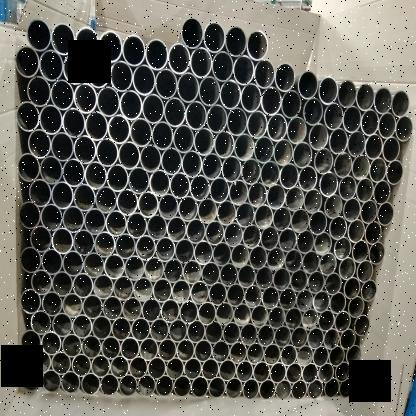pipe: (14, 44, 40, 78), (50, 22, 76, 54), (26, 18, 51, 50), (74, 26, 99, 58), (98, 29, 122, 62), (39, 48, 63, 81), (62, 52, 86, 85), (132, 63, 156, 96), (27, 74, 51, 107), (144, 38, 168, 70), (86, 56, 110, 88), (109, 60, 133, 92), (154, 67, 178, 99), (50, 78, 74, 110), (224, 24, 247, 57), (122, 35, 146, 66), (74, 82, 98, 113), (16, 101, 40, 132), (62, 107, 86, 138), (202, 20, 225, 52), (168, 42, 191, 74), (189, 46, 212, 78), (142, 92, 165, 124), (50, 131, 74, 161), (72, 134, 96, 164), (180, 18, 204, 48), (176, 72, 200, 102), (96, 86, 120, 116), (38, 104, 62, 134), (84, 110, 108, 140), (211, 50, 234, 81), (119, 89, 142, 120), (206, 102, 228, 134), (50, 180, 74, 209), (28, 128, 51, 158), (107, 114, 130, 144), (246, 29, 268, 60), (198, 75, 220, 106), (72, 183, 96, 211), (17, 153, 40, 182), (84, 160, 107, 189), (29, 178, 52, 207), (118, 140, 140, 170), (274, 62, 296, 92), (260, 86, 282, 116), (164, 96, 186, 126), (184, 100, 206, 130), (130, 117, 152, 147), (233, 54, 254, 85), (95, 138, 118, 166), (62, 158, 85, 186), (127, 166, 150, 194), (40, 202, 63, 230), (51, 226, 74, 254), (220, 78, 240, 110), (151, 121, 173, 150), (172, 124, 194, 153), (40, 155, 62, 184), (240, 82, 261, 112), (29, 225, 52, 252), (254, 57, 274, 88), (140, 144, 162, 172), (160, 147, 182, 175), (106, 164, 128, 192), (296, 70, 318, 98), (302, 97, 324, 125), (193, 127, 214, 156), (253, 135, 274, 164), (317, 75, 338, 104), (280, 89, 301, 118), (226, 107, 247, 136), (286, 116, 307, 145), (337, 78, 357, 108), (95, 186, 117, 213), (116, 188, 138, 215), (62, 205, 84, 232), (84, 207, 106, 234), (105, 209, 127, 236), (126, 211, 148, 238), (213, 130, 234, 158), (233, 132, 254, 160), (181, 150, 202, 178), (149, 168, 170, 196), (19, 201, 40, 229), (73, 228, 94, 256), (20, 246, 41, 274), (323, 102, 344, 130), (246, 110, 267, 138), (273, 138, 293, 167), (390, 89, 410, 118), (114, 232, 136, 258), (112, 274, 134, 300), (308, 123, 329, 150), (259, 160, 280, 187), (170, 172, 191, 199), (146, 213, 167, 240), (202, 152, 222, 180), (221, 154, 241, 182), (209, 176, 229, 204), (158, 192, 178, 220), (342, 104, 362, 132), (266, 113, 286, 141), (41, 249, 63, 274), (30, 269, 52, 294), (41, 290, 63, 315), (20, 329, 42, 354), (228, 180, 249, 206), (302, 188, 323, 214), (94, 230, 115, 256), (135, 234, 156, 260), (62, 250, 83, 276), (104, 253, 125, 279), (124, 254, 145, 280), (73, 272, 94, 298), (93, 273, 114, 299), (20, 288, 41, 314), (62, 292, 83, 318), (328, 127, 348, 154), (292, 141, 312, 168), (314, 147, 334, 174), (332, 151, 352, 178), (278, 162, 298, 189), (190, 174, 210, 201), (178, 195, 198, 222), (84, 251, 104, 278), (30, 310, 52, 334), (40, 331, 62, 355), (141, 297, 162, 322), (356, 82, 374, 111), (374, 86, 392, 115), (240, 158, 260, 184), (298, 165, 318, 191), (138, 191, 158, 217), (197, 198, 217, 224), (216, 200, 236, 226), (166, 216, 186, 242), (144, 256, 164, 282), (163, 257, 183, 283), (52, 270, 72, 296), (133, 276, 153, 302), (92, 314, 112, 340), (347, 130, 366, 157), (364, 132, 382, 160), (82, 294, 103, 318), (130, 317, 151, 341), (61, 333, 82, 357), (361, 108, 379, 136), (378, 111, 396, 139), (318, 171, 338, 196), (266, 184, 286, 209), (284, 186, 304, 211), (290, 208, 310, 233), (328, 215, 348, 240), (186, 218, 206, 243), (223, 222, 243, 247), (155, 236, 175, 261), (174, 238, 194, 263), (102, 295, 122, 320), (122, 296, 142, 321), (160, 298, 180, 323), (72, 313, 92, 338), (22, 367, 42, 392), (368, 156, 387, 182), (247, 182, 266, 208), (201, 260, 220, 286), (190, 280, 209, 306), (396, 115, 414, 142), (323, 194, 343, 218), (152, 278, 172, 302), (52, 312, 72, 336), (112, 316, 132, 340), (82, 334, 102, 358), (101, 335, 121, 359), (31, 350, 51, 374), (51, 350, 71, 374), (42, 369, 62, 393), (80, 372, 100, 396), (342, 197, 361, 222), (272, 206, 291, 231), (308, 210, 327, 235), (204, 220, 223, 245), (260, 225, 279, 250), (278, 227, 297, 252), (212, 241, 231, 266), (183, 259, 202, 284), (219, 262, 238, 287), (382, 136, 400, 162), (352, 154, 370, 180), (386, 159, 404, 185), (338, 174, 356, 200), (356, 176, 374, 202), (236, 202, 254, 228), (254, 204, 272, 230), (194, 239, 212, 265), (172, 278, 190, 304), (71, 353, 91, 376), (301, 250, 320, 274), (237, 264, 256, 288), (226, 282, 245, 306), (278, 286, 297, 310), (150, 318, 169, 342), (168, 318, 187, 342), (121, 336, 140, 360), (158, 338, 177, 362), (61, 370, 80, 394), (100, 372, 119, 396), (119, 373, 138, 397), (372, 179, 390, 204), (360, 199, 378, 224), (296, 229, 314, 254), (314, 231, 332, 256), (231, 243, 249, 268), (249, 245, 267, 270), (318, 251, 336, 276), (186, 320, 206, 342), (91, 354, 110, 377), (110, 355, 129, 378), (347, 218, 365, 242), (364, 220, 382, 244), (242, 224, 260, 248), (334, 236, 352, 260), (266, 246, 284, 270), (356, 259, 374, 283), (256, 266, 274, 290), (272, 266, 290, 290), (290, 268, 308, 292), (307, 270, 325, 294), (324, 272, 342, 296), (208, 282, 226, 306), (244, 284, 262, 308), (296, 288, 314, 312), (312, 290, 330, 314), (180, 300, 198, 324), (198, 300, 216, 324), (233, 302, 251, 326), (268, 305, 286, 329), (205, 320, 223, 344), (222, 321, 240, 345), (240, 322, 258, 346), (257, 323, 275, 347), (274, 324, 292, 348), (140, 336, 158, 360), (377, 201, 394, 226), (129, 356, 148, 378), (284, 249, 302, 272), (338, 257, 356, 280), (343, 276, 361, 299), (250, 304, 268, 327), (284, 306, 302, 329), (194, 339, 212, 362), (229, 341, 247, 364), (263, 343, 281, 366), (148, 356, 166, 379), (166, 356, 184, 379), (184, 357, 202, 380), (218, 358, 236, 381), (138, 374, 156, 397), (174, 375, 192, 398), (191, 375, 209, 398), (352, 239, 369, 263), (307, 326, 324, 350), (262, 286, 280, 308), (347, 296, 365, 318), (216, 302, 234, 324), (290, 326, 308, 348), (212, 340, 230, 362), (201, 358, 219, 380), (242, 378, 260, 400), (177, 338, 194, 361), (280, 343, 297, 366), (156, 375, 173, 398), (368, 241, 384, 265), (328, 345, 346, 366), (334, 310, 351, 332), (323, 328, 340, 350), (247, 342, 264, 364), (312, 345, 329, 367), (236, 360, 253, 382), (253, 360, 270, 382), (209, 376, 226, 398), (307, 378, 324, 400), (259, 378, 276, 400), (361, 278, 377, 301), (330, 291, 346, 314), (318, 309, 334, 332), (270, 361, 286, 384), (275, 379, 292, 400), (302, 308, 318, 330), (354, 314, 370, 336), (340, 328, 356, 350), (346, 344, 362, 366), (296, 344, 312, 366), (286, 362, 302, 384), (302, 362, 318, 384), (226, 376, 242, 398), (335, 361, 351, 382), (318, 362, 334, 383), (339, 377, 355, 398), (291, 379, 307, 400), (324, 378, 340, 398)
